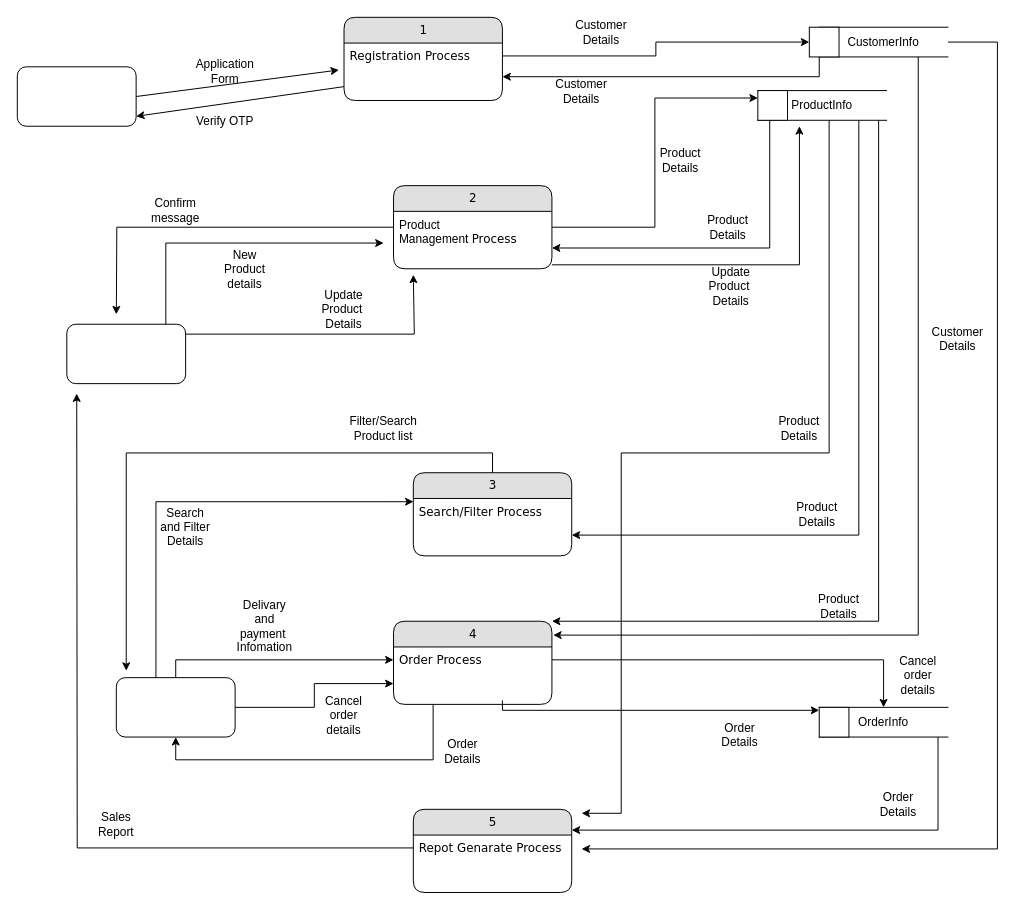
Image size: 1023x910. Some labels were removed from this diagram. The shapes that lost their labels are listed below. From the top down, each one's centre as x and y in pixels, then its label:
At point 76,96: "Visitor".
At point 126,353: "Admin".
At point 175,707: "Customer".
